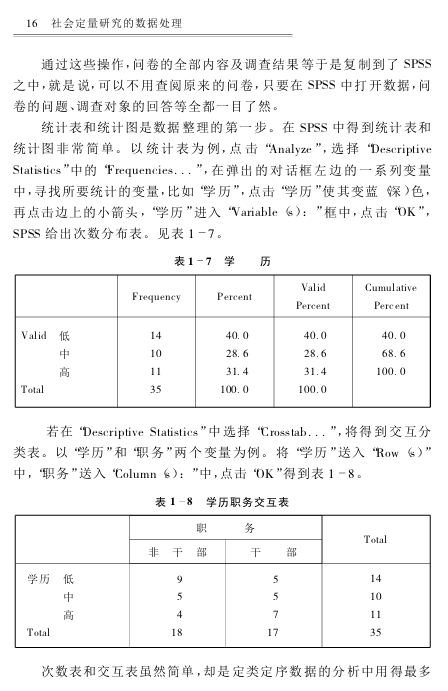table: (14, 274, 431, 408), (14, 514, 430, 647)
